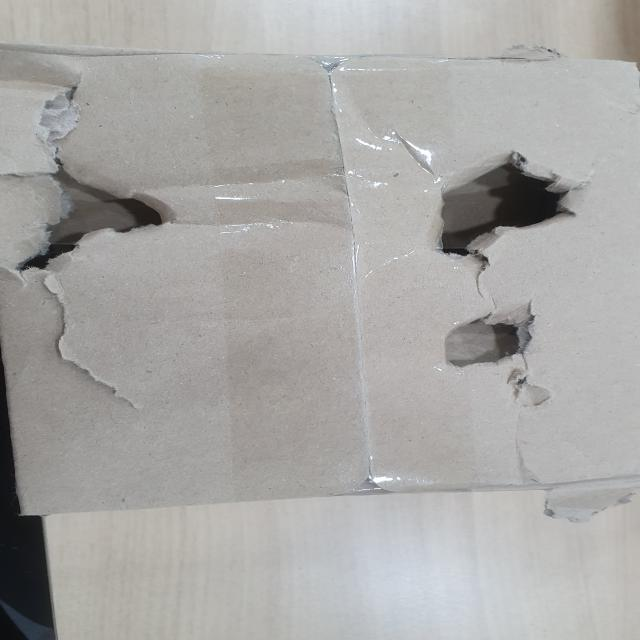hole: (416, 143, 586, 263), (24, 172, 198, 266), (433, 310, 555, 379)
